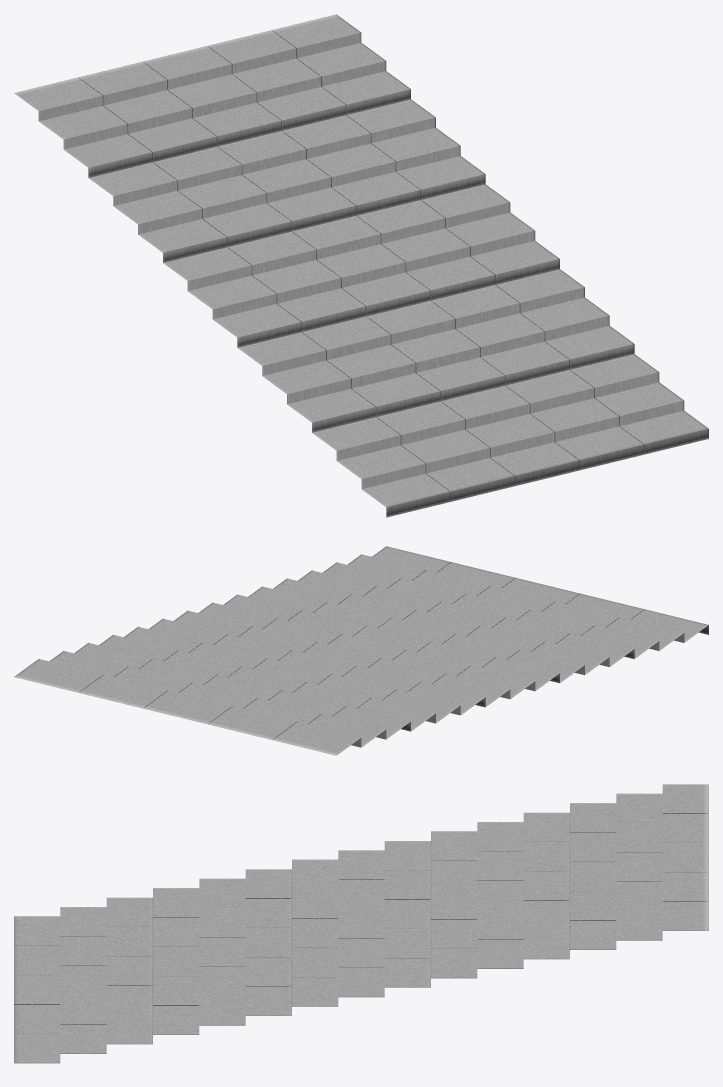
The model's file is Tileset Placeholder Stairs Long.FBX.
3 views of the same model, one above another, from view 1: azimuth 30°, elevation 25°; view 2: azimuth 150°, elevation 25°; view 3: azimuth 270°, elevation 25° (orthographic). The views are drawn at different scales.
Visible parts, largest first — view 1: Placeholder Stairs Long; view 2: Placeholder Stairs Long; view 3: Placeholder Stairs Long.
Boxes of the visible parts, box(x1,y1,x2,y2) form: Placeholder Stairs Long: box(14, 14, 708, 517); Placeholder Stairs Long: box(14, 546, 708, 755); Placeholder Stairs Long: box(14, 784, 708, 1063).
Bounding box in the file's own units: 2.54 × 1.14 × 5.08.
1 material, 1 textured.
